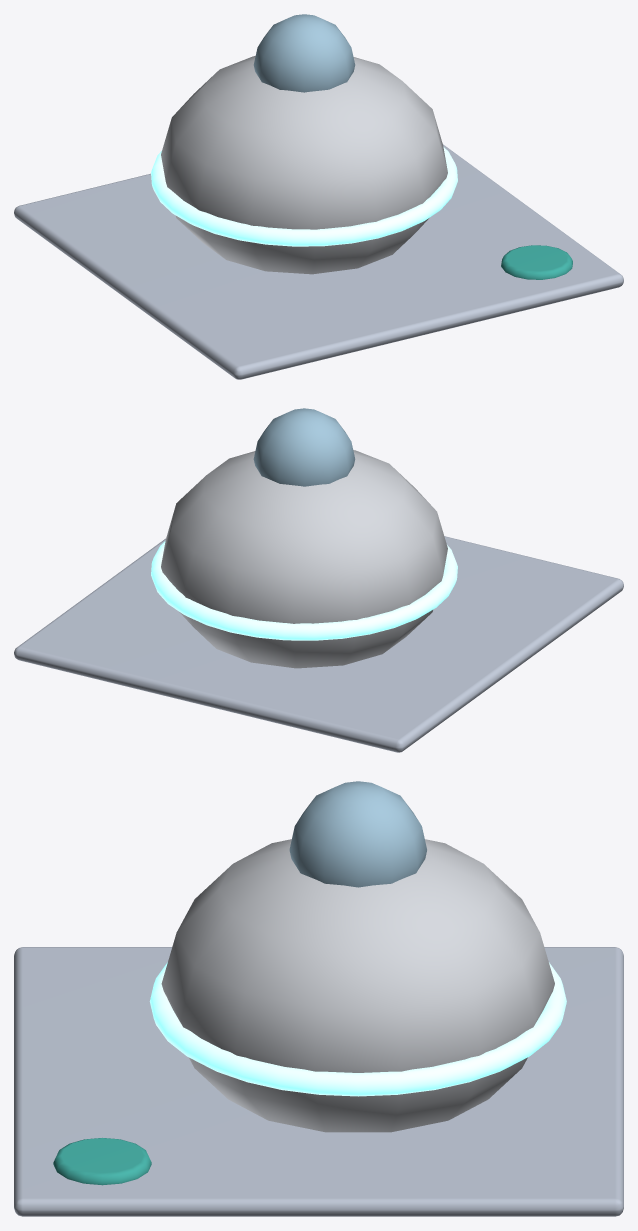
The picture shows the model from 3 angles, top to bottom: view 1: azimuth 30°, elevation 25°; view 2: azimuth 150°, elevation 25°; view 3: azimuth 270°, elevation 25°; orthographic projection. The views are drawn at different scales.
Visible parts, largest first — view 1: Cube; view 2: Cube; view 3: Cube.
Part boxes in pixels (<box>): Cube: <box>14,14,623,379</box>; Cube: <box>14,408,623,752</box>; Cube: <box>14,781,623,1216</box>.
Bounding box in the file's own units: 0.62 × 0.37 × 0.62.
